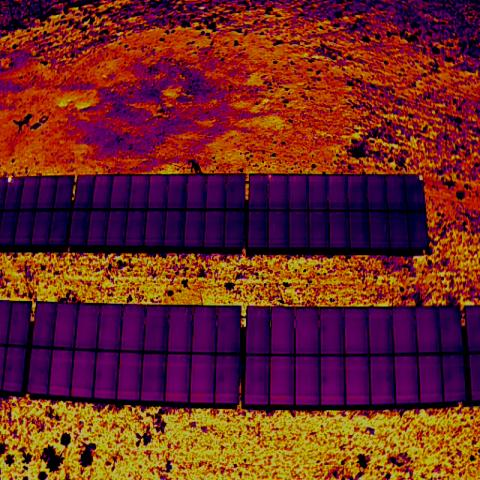fault: (6, 176, 14, 183), (418, 174, 424, 183), (268, 173, 274, 180)
